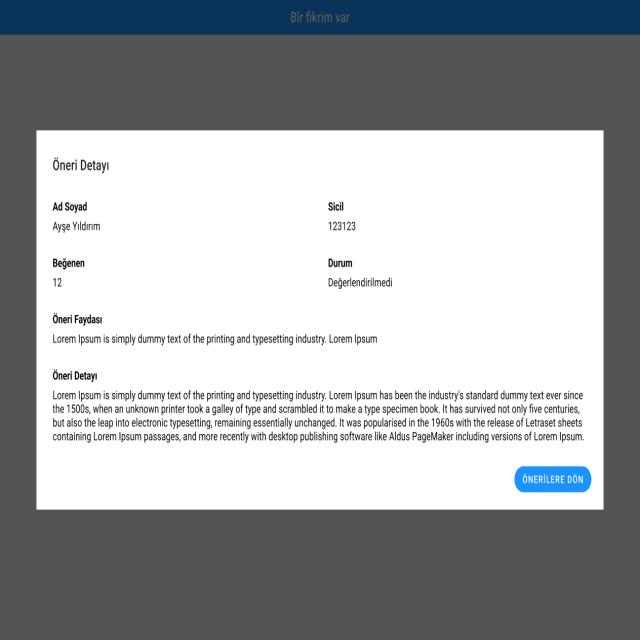QLabel: (50, 386, 586, 444), (49, 331, 378, 347), (50, 153, 110, 177), (326, 274, 395, 292), (50, 310, 104, 328), (522, 473, 584, 487), (50, 218, 101, 232), (51, 200, 90, 216), (328, 218, 357, 233), (50, 258, 86, 270), (326, 257, 353, 270), (50, 274, 66, 289), (328, 199, 344, 212)
VBtn: (514, 465, 592, 494)
VDialog: (37, 130, 604, 511)
